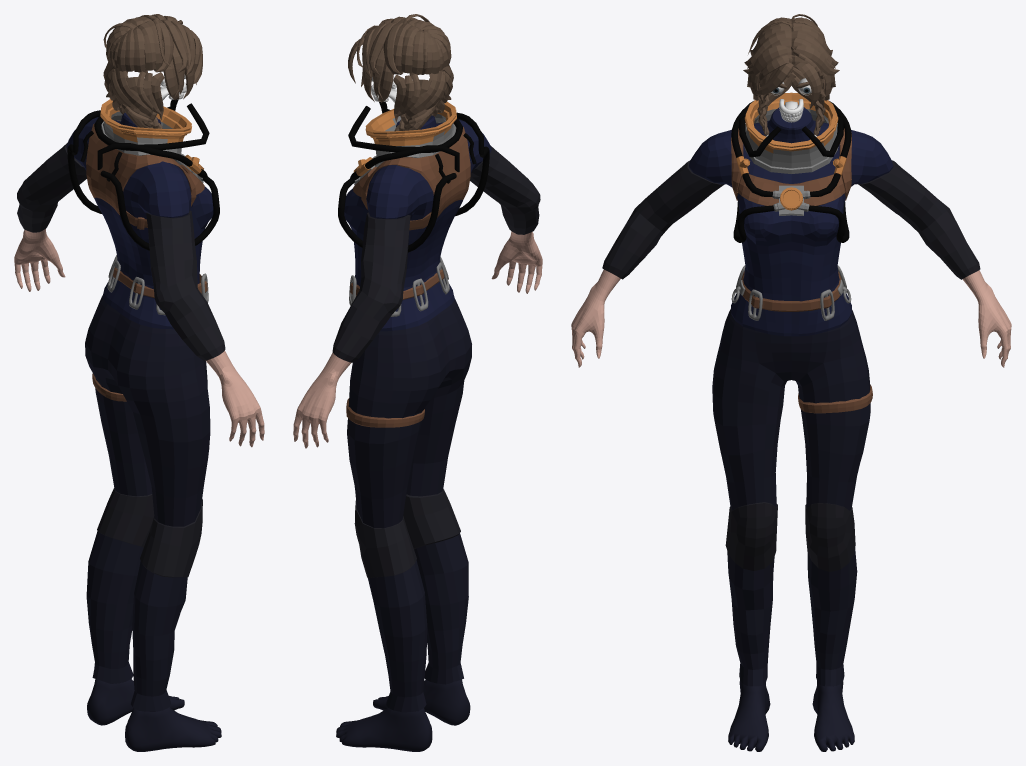
File: MC_TestScale.fbx
3 views of the same model, side by side, from view 1: azimuth 30°, elevation 25°; view 2: azimuth 150°, elevation 25°; view 3: azimuth 270°, elevation 25° (orthographic).
Parts seen in each view (by area): view 1: F_BodyPants_low, F_ShirtSleeves_low, F_ShirtBody_low, F_Hair_low, F_KneePads_low, F_BodyFeet_low, F_BodyHands_low, F_Tubes_low, F_VestSidesBackStrap_low, F_HelmetNeck_low, F_BeltWeights_low, F_Belt_low; view 2: F_BodyPants_low, F_ShirtSleeves_low, F_ShirtBody_low, F_Hair_low, F_KneePads_low, F_BodyFeet_low, F_BodyHands_low, F_Tubes_low, F_VestSidesBackStrap_low, F_HelmetNeck_low, F_ThighStrap_low, F_BeltWeights_low (+1 smaller); view 3: F_BodyPants_low, F_ShirtBody_low, F_ShirtSleeves_low, F_Hair_low, F_KneePads_low, F_BodyFeet_low, F_BodyHands_low, F_HelmetNeck_low, F_Tubes_low, F_VestFrontStrap_low, F_Belt_low, F_BeltWeights_low (+2 smaller).
Boxes of the visible parts, bbox=[...] form: F_BodyPants_low: bbox=[85, 295, 210, 711]; F_ShirtSleeves_low: bbox=[17, 142, 225, 360]; F_ShirtBody_low: bbox=[66, 112, 213, 329]; F_Hair_low: bbox=[103, 14, 202, 128]; F_KneePads_low: bbox=[97, 488, 202, 577]; F_BodyFeet_low: bbox=[87, 679, 221, 751]; F_BodyHands_low: bbox=[14, 229, 264, 447]; F_Tubes_low: bbox=[67, 99, 219, 250]; F_VestSidesBackStrap_low: bbox=[86, 121, 196, 227]; F_HelmetNeck_low: bbox=[100, 99, 191, 164]; F_BeltWeights_low: bbox=[107, 254, 208, 315]; F_Belt_low: bbox=[113, 267, 207, 297]; F_BodyPants_low: bbox=[347, 299, 471, 712]; F_ShirtSleeves_low: bbox=[332, 145, 540, 362]; F_ShirtBody_low: bbox=[344, 115, 491, 331]; F_Hair_low: bbox=[348, 14, 453, 131]; F_KneePads_low: bbox=[354, 489, 460, 578]; F_BodyFeet_low: bbox=[336, 679, 470, 751]; F_BodyHands_low: bbox=[293, 231, 542, 448]; F_Tubes_low: bbox=[338, 102, 489, 252]; F_VestSidesBackStrap_low: bbox=[361, 123, 470, 230]; F_HelmetNeck_low: bbox=[365, 101, 456, 166]; F_ThighStrap_low: bbox=[346, 398, 424, 427]; F_BeltWeights_low: bbox=[349, 256, 449, 316]; F_BodyPants_low: bbox=[712, 309, 870, 686]; F_ShirtBody_low: bbox=[689, 105, 893, 336]; F_ShirtSleeves_low: bbox=[602, 160, 980, 279]; F_Hair_low: bbox=[743, 14, 839, 135]; F_KneePads_low: bbox=[725, 502, 855, 571]; F_BodyFeet_low: bbox=[728, 680, 854, 751]; F_BodyHands_low: bbox=[571, 269, 1011, 367]; F_HelmetNeck_low: bbox=[744, 92, 838, 173]; F_Tubes_low: bbox=[731, 100, 851, 242]; F_VestFrontStrap_low: bbox=[737, 174, 845, 205]; F_Belt_low: bbox=[741, 271, 841, 311]; F_BeltWeights_low: bbox=[735, 265, 847, 320].
Bounding box in the file's own units: 28.3 × 166 × 93.57.
